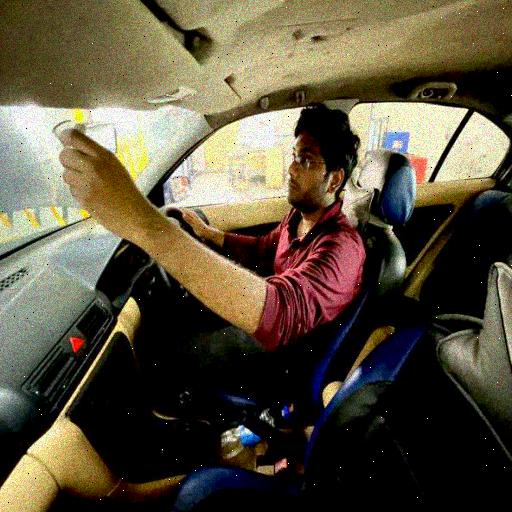Hair Mirror: (54, 102, 373, 340)
